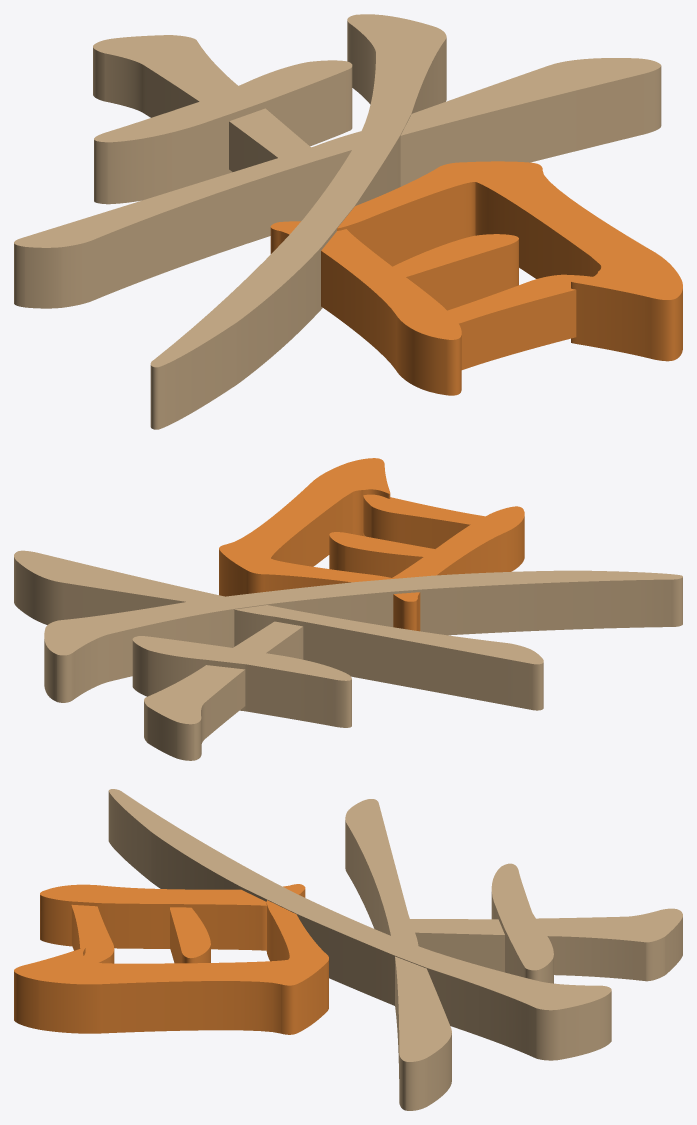
The model's file is hanzi213.fbx.
3 views of the same model, one above another, from view 1: azimuth 30°, elevation 25°; view 2: azimuth 150°, elevation 25°; view 3: azimuth 270°, elevation 25° (orthographic). The views are drawn at different scales.
Parts seen in each view (by area): view 1: Curve.002, Curve.003, Curve.005, Curve, Curve.004, Curve.001, Curve.007, Curve.006; view 2: Curve.003, Curve.002, Curve.005, Curve, Curve.001, Curve.004, Curve.007, Curve.006; view 3: Curve.003, Curve.005, Curve.002, Curve.001, Curve.004, Curve, Curve.006, Curve.007.
Boxes of the visible parts, x1,y1,x2,y2 form: Curve.002: (14,58,661,308); Curve.003: (150,14,446,429); Curve.005: (337,161,682,361); Curve: (94,60,352,204); Curve.004: (270,221,461,395); Curve.001: (93,35,310,171); Curve.007: (447,274,592,369); Curve.006: (392,234,518,310); Curve.003: (44,570,682,702); Curve.002: (14,550,543,710); Curve.005: (219,458,394,596); Curve: (132,636,351,727); Curve.001: (144,621,303,760); Curve.004: (392,506,524,631); Curve.007: (363,494,484,548); Curve.006: (329,532,434,577); Curve.003: (108,789,611,1060); Curve.005: (14,900,328,1034); Curve.002: (345,799,451,1110); Curve.001: (410,908,682,981); Curve.004: (40,884,305,950); Curve: (491,863,553,983); Curve.006: (170,907,210,963); Curve.007: (71,904,114,963).
Size of the model in its own units: 24.58 by 25.52 by 2.12.
